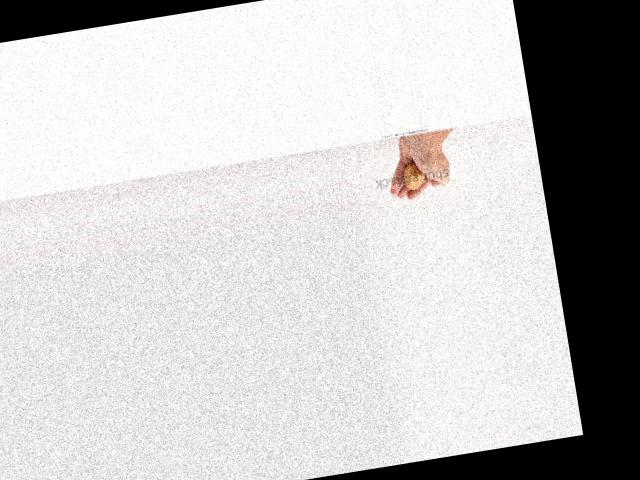egg: (401, 161, 425, 190)
